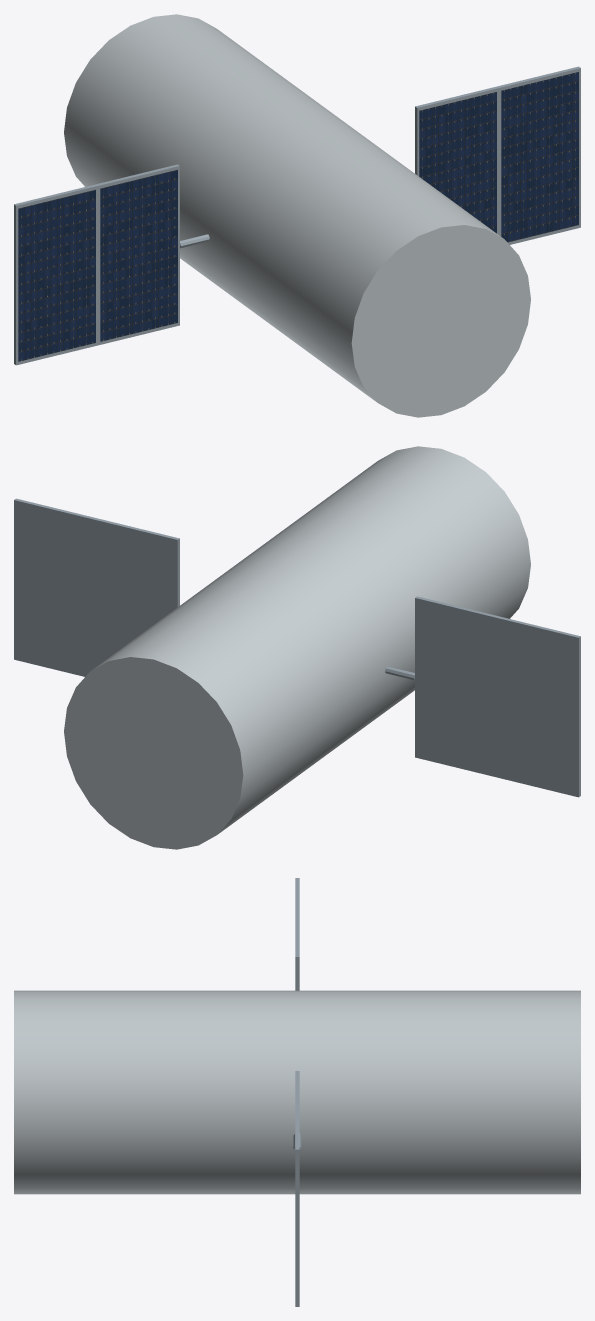
The model's file is ref-yantar-4ks1-13745.glb.
3 renders of one model, top to bottom at view 1: azimuth 30°, elevation 25°; view 2: azimuth 150°, elevation 25°; view 3: azimuth 270°, elevation 25°, orthographic.
Parts seen in each view (by area): view 1: Spacecraft body, Photovoltaic laminates (×4), Array frame (×4); view 2: Spacecraft body, Array frame (×4); view 3: Spacecraft body, Array frame.
Boxes of the visible parts, x1,y1,x2,y2 form: Spacecraft body: (64,14,530,417); Photovoltaic laminates (×4): (18,72,578,361); Array frame (×4): (14,66,580,365); Spacecraft body: (64,446,530,849); Array frame (×4): (14,498,580,797); Spacecraft body: (14,990,580,1194); Array frame: (295,1110,299,1306).
Size of the model in its own units: 8.5 by 2.7 by 7.5.
3 materials, 1 textured.
